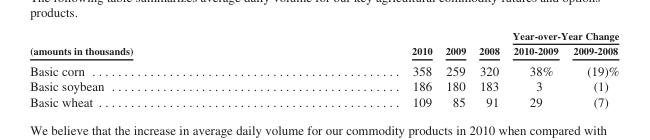table: (29, 29, 618, 108)
table column: (29, 29, 271, 108), (271, 29, 438, 108), (505, 29, 565, 108), (565, 29, 618, 108), (471, 29, 505, 108), (438, 29, 471, 108)
table column header: (29, 29, 618, 59)
table row: (29, 59, 618, 78), (29, 42, 618, 59), (29, 78, 618, 93), (29, 93, 618, 108), (29, 29, 618, 42)
table spanning cell: (29, 29, 271, 59), (271, 29, 438, 59), (505, 29, 618, 42), (471, 29, 505, 59), (438, 29, 471, 59)
